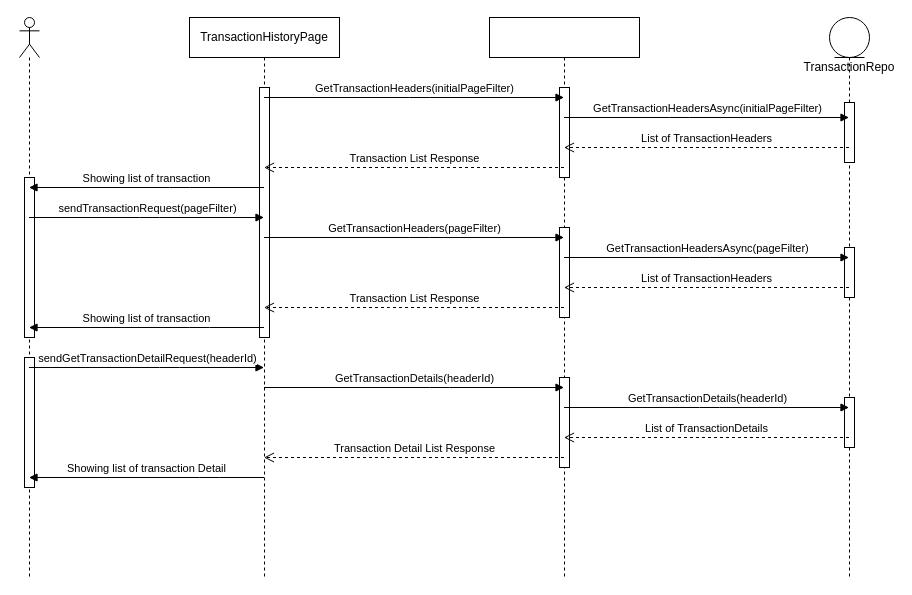
This 912x595 diagram has some shape labels left out. The box of each missing label's shape, as (x1, y1, x2, y2) in pixels:
TransactionController: (488, 16, 640, 578)
User: (18, 16, 40, 578)
